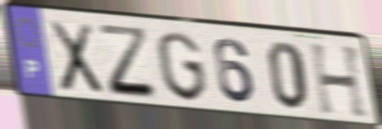0: (265, 39, 310, 113)
6: (212, 37, 257, 107)
G: (154, 29, 210, 105)
H: (307, 42, 371, 122)
X: (46, 19, 106, 97)
Z: (96, 22, 161, 103)
